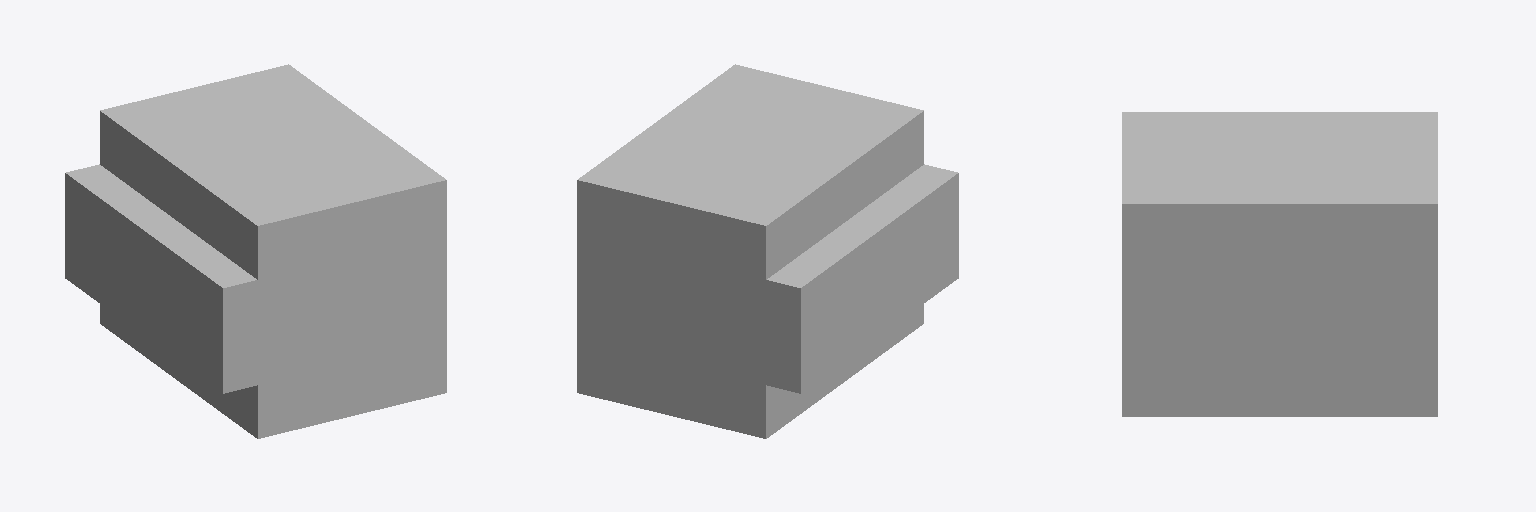
The model's file is square_leg_short.obj.
3 views of the same model, side by side, from view 1: azimuth 30°, elevation 25°; view 2: azimuth 150°, elevation 25°; view 3: azimuth 270°, elevation 25° (orthographic).
Visible parts, largest first — view 1: peg_square_leg_short; view 2: peg_square_leg_short; view 3: peg_square_leg_short.
Boxes of the visible parts, x1=… form: peg_square_leg_short: x1=65, y1=64, x2=446, y2=438; peg_square_leg_short: x1=577, y1=64, x2=958, y2=438; peg_square_leg_short: x1=1122, y1=112, x2=1437, y2=416.
Bounding box in the file's own units: 0.0155 × 0.0141 × 0.019.